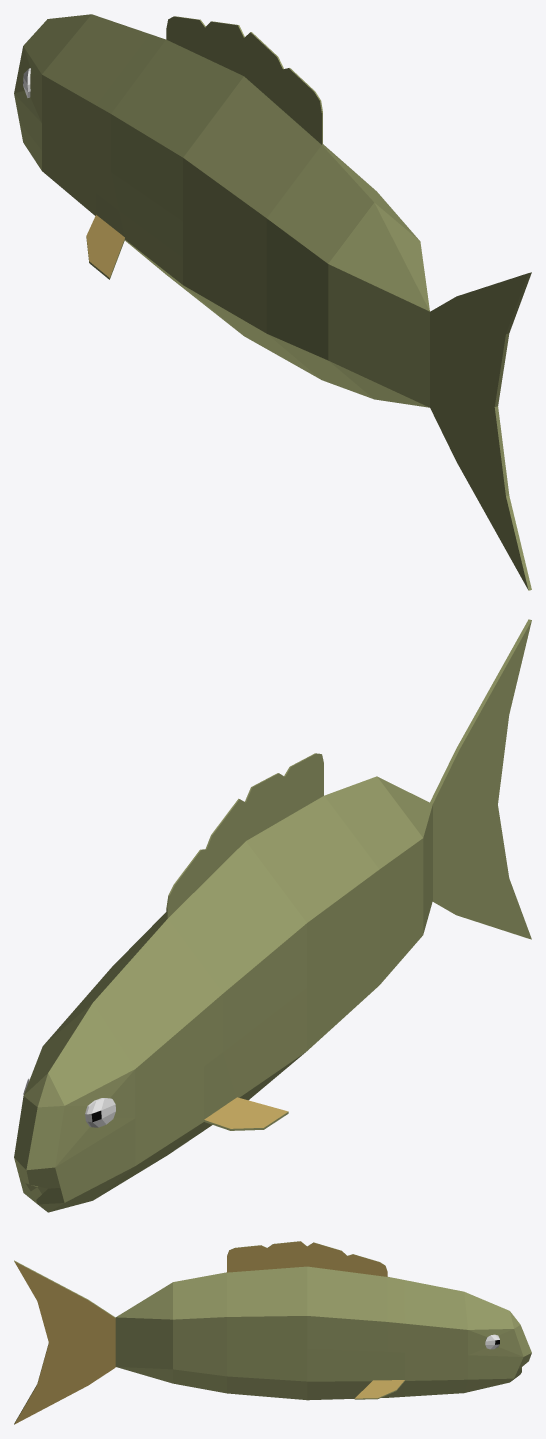
File: teparyba.fbx
3 renders of one model, top to bottom at view 1: azimuth 30°, elevation 25°; view 2: azimuth 150°, elevation 25°; view 3: azimuth 270°, elevation 25°, orthographic. The views are drawn at different scales.
Parts seen in each view (by area): view 1: Cube; view 2: Cube; view 3: Cube.
Boxes of the visible parts, x1,y1,x2,y2 form: Cube: [14, 14, 531, 590]; Cube: [14, 619, 531, 1212]; Cube: [14, 1241, 531, 1424].
Size of the model in its own units: 398 by 764 by 1960.
